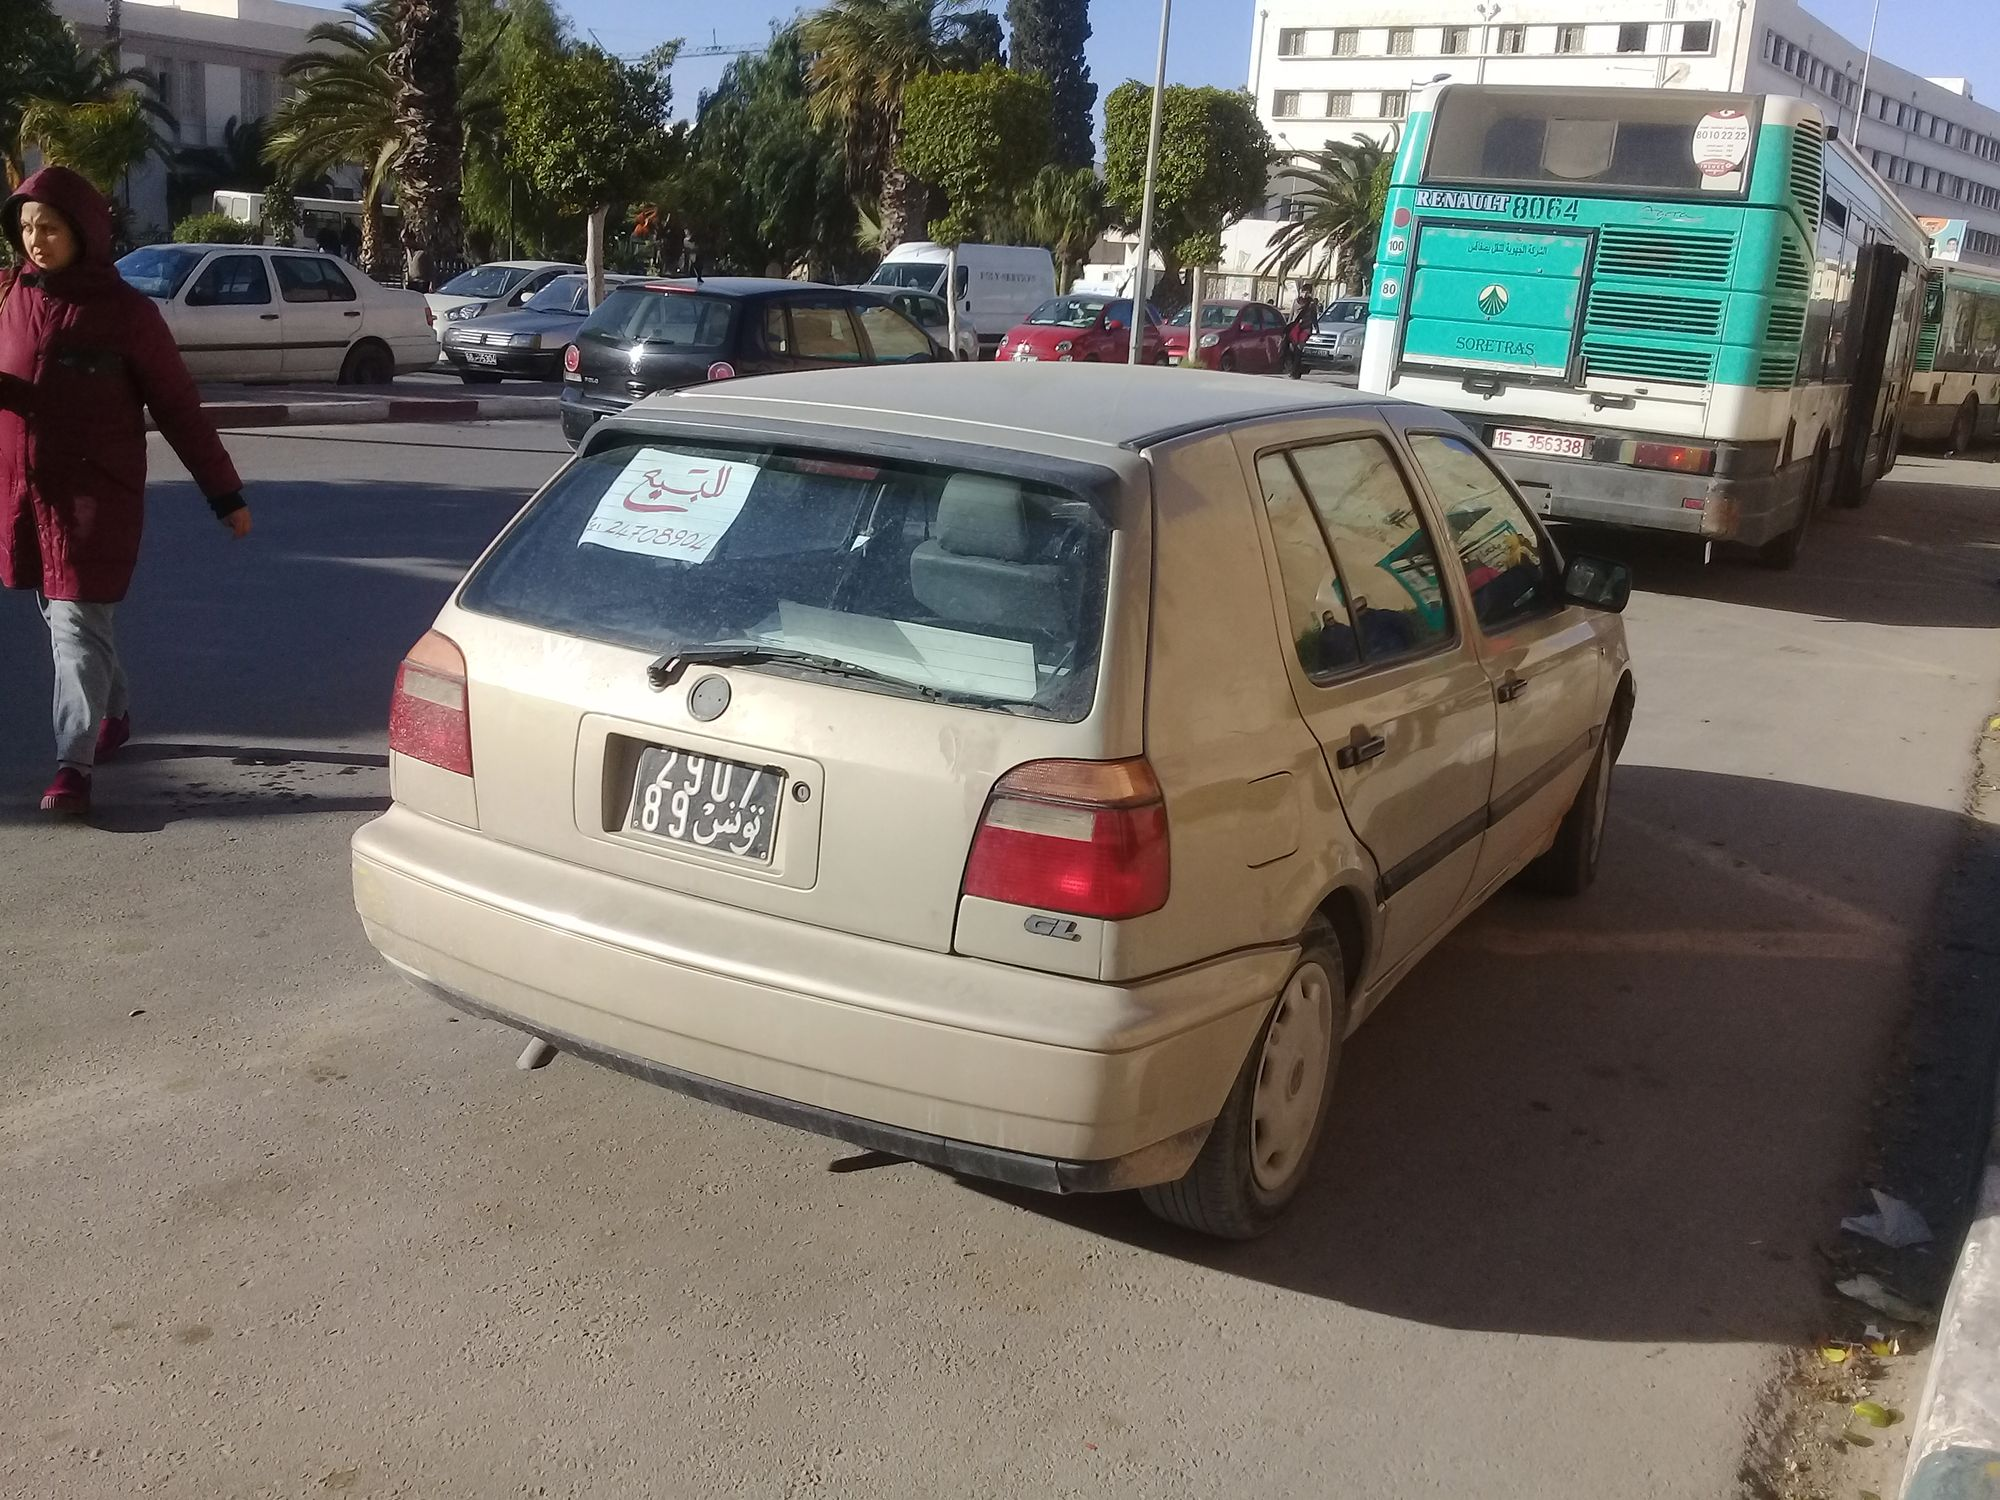LP: (622, 726, 789, 875)
